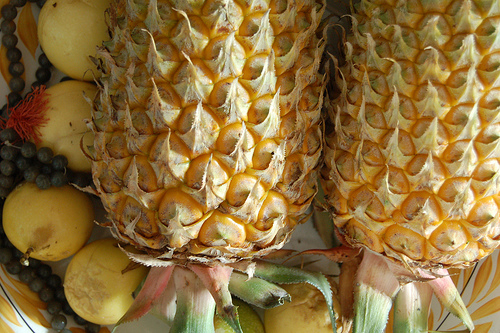pineapple: (71, 0, 337, 332), (330, 0, 499, 284)
